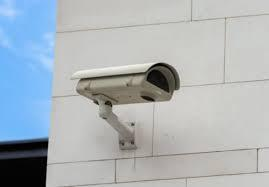tutu: (68, 59, 184, 111)
